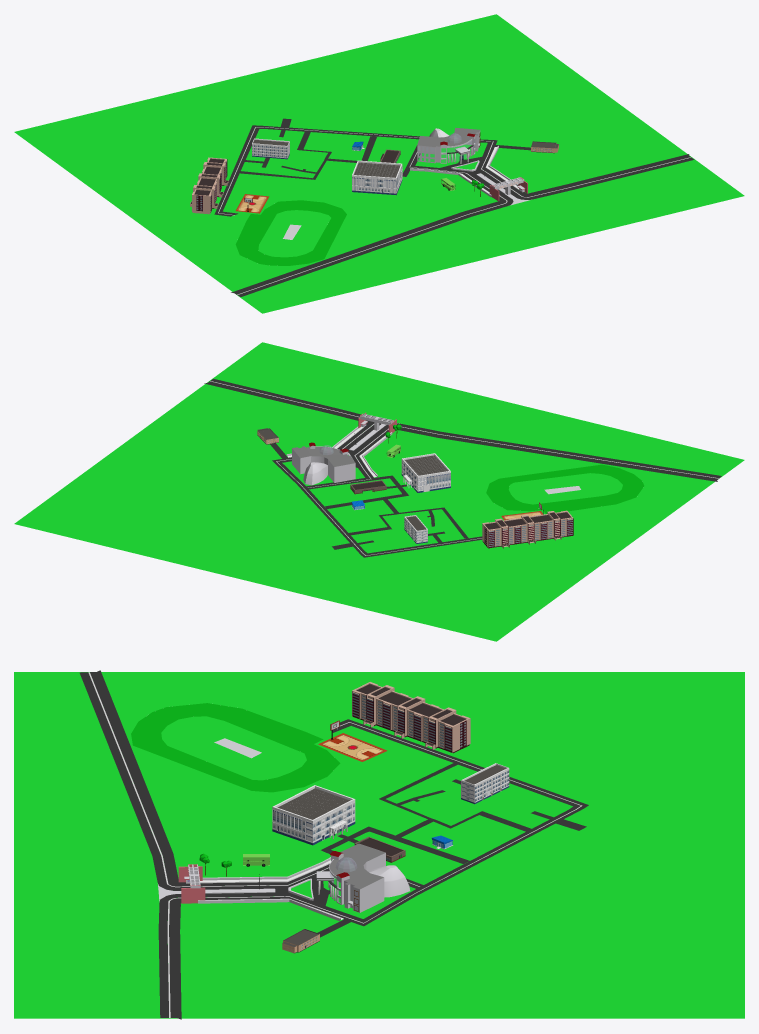
3 renders of one model, top to bottom at view 1: azimuth 30°, elevation 25°; view 2: azimuth 150°, elevation 25°; view 3: azimuth 270°, elevation 25°, orthographic. The views are drawn at different scales.
Visible parts, largest first — view 1: Ground, Road, Admin sggs, Entc, hostelpart2, small_building, Boys_hostel; view 2: Ground, Road, Admin sggs, hostelpart2, Entc, Boys_hostel, small_building; view 3: Ground, Road, Admin sggs, hostelpart2, Entc, Boys_hostel, small_building, Basketball, Kaman, Hostel Girls.
Boxes of the visible parts, x1=… form: Ground: x1=14, y1=14, x2=744, y2=313; Road: x1=214, y1=118, x2=694, y2=296; Admin sggs: x1=417, y1=128, x2=480, y2=163; Entc: x1=352, y1=160, x2=402, y2=195; hostelpart2: x1=190, y1=157, x2=228, y2=214; small_building: x1=252, y1=138, x2=289, y2=159; Boys_hostel: x1=193, y1=167, x2=227, y2=204; Ground: x1=14, y1=342, x2=744, y2=641; Road: x1=204, y1=378, x2=721, y2=557; Admin sggs: x1=292, y1=442, x2=355, y2=485; hostelpart2: x1=482, y1=511, x2=573, y2=548; Entc: x1=401, y1=453, x2=450, y2=492; Boys_hostel: x1=504, y1=510, x2=570, y2=544; small_building: x1=404, y1=515, x2=427, y2=543; Ground: x1=14, y1=672, x2=744, y2=1018; Road: x1=79, y1=670, x2=588, y2=1019; Admin sggs: x1=316, y1=843, x2=410, y2=912; hostelpart2: x1=352, y1=682, x2=470, y2=753; Entc: x1=272, y1=785, x2=355, y2=845; Boys_hostel: x1=352, y1=683, x2=441, y2=745; small_building: x1=461, y1=763, x2=509, y2=804; Basketball: x1=318, y1=733, x2=387, y2=761; Kaman: x1=178, y1=864, x2=205, y2=903; Hostel Girls: x1=282, y1=929, x2=319, y2=953.
Bounding box in the file's own units: 32.61 × 1.5 × 28.82.
Materials: 38 (9 with a texture image).
